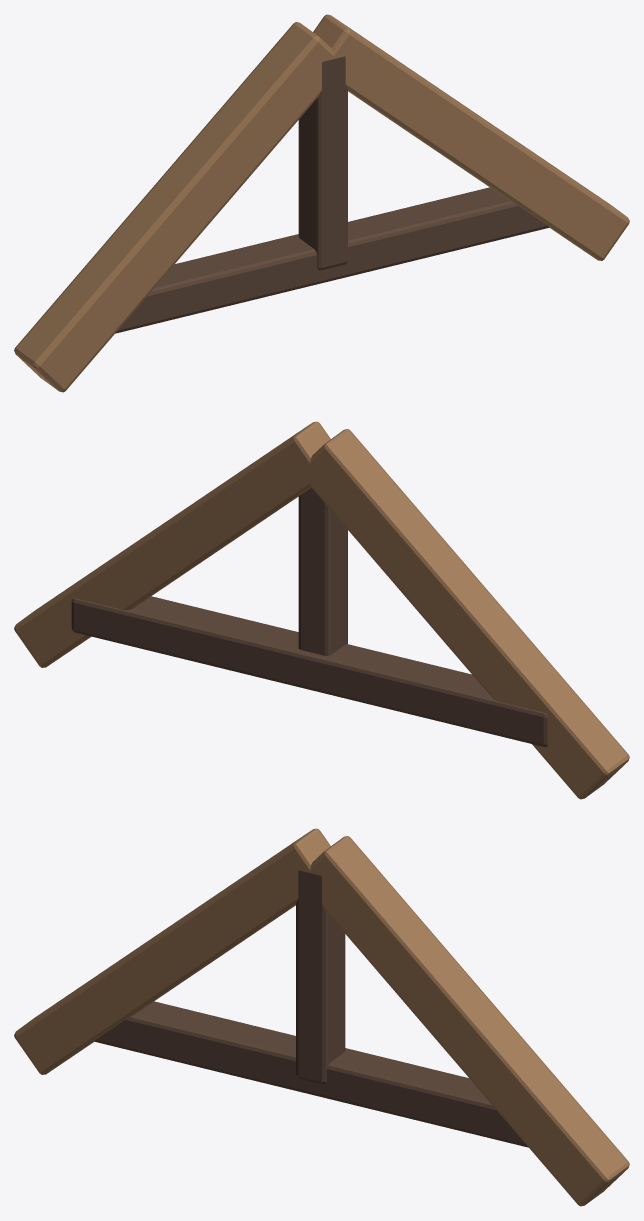
File: gable_end_2m__structure.glb
3 renders of one model, top to bottom at view 1: azimuth 30°, elevation 25°; view 2: azimuth 150°, elevation 25°; view 3: azimuth 330°, elevation 25°, orthographic.
Visible parts, largest first — view 1: gable_end_2m__structure__mesh_00; view 2: gable_end_2m__structure__mesh_00; view 3: gable_end_2m__structure__mesh_00.
Part boxes in pixels (box(x1,y1,x2,y2)): gable_end_2m__structure__mesh_00: box(14, 14, 629, 392); gable_end_2m__structure__mesh_00: box(14, 421, 629, 799); gable_end_2m__structure__mesh_00: box(14, 828, 629, 1206).
Bounding box in the file's own units: 2.62 × 1.24 × 0.19.
